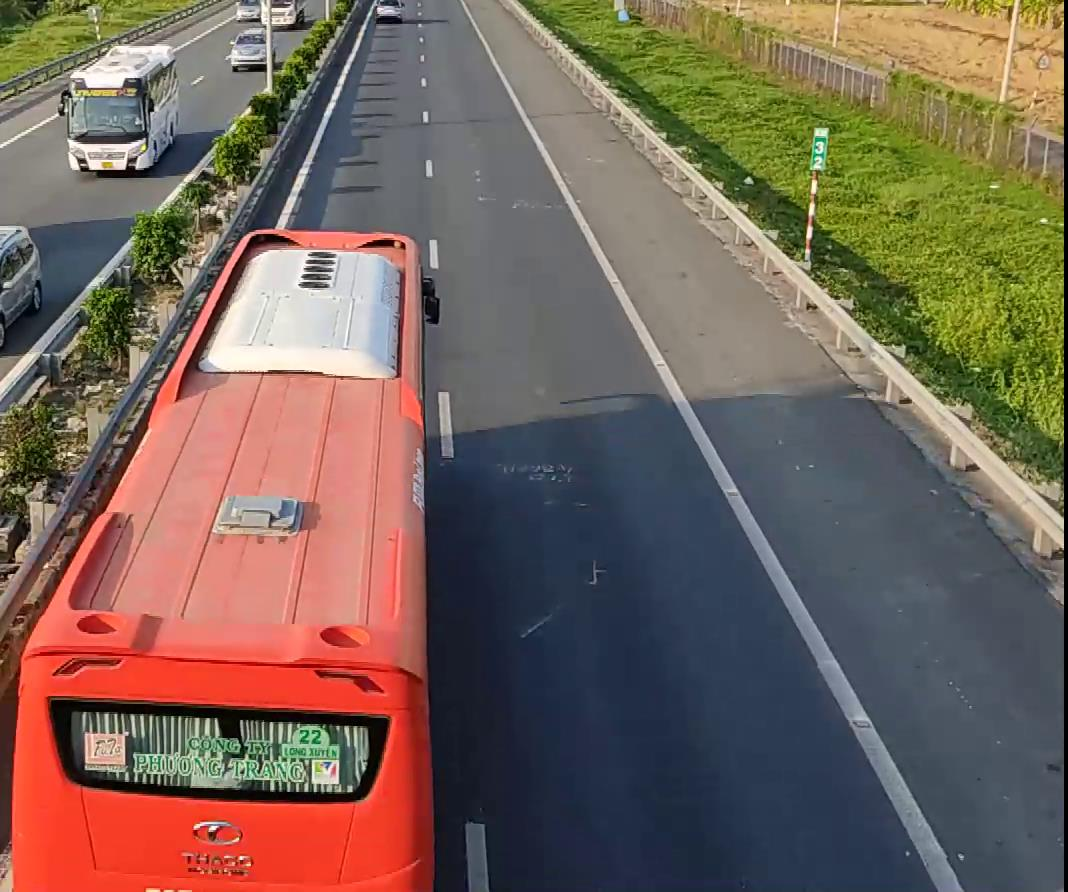bus: (7, 225, 432, 889), (62, 42, 179, 174)
car: (0, 223, 44, 352)
